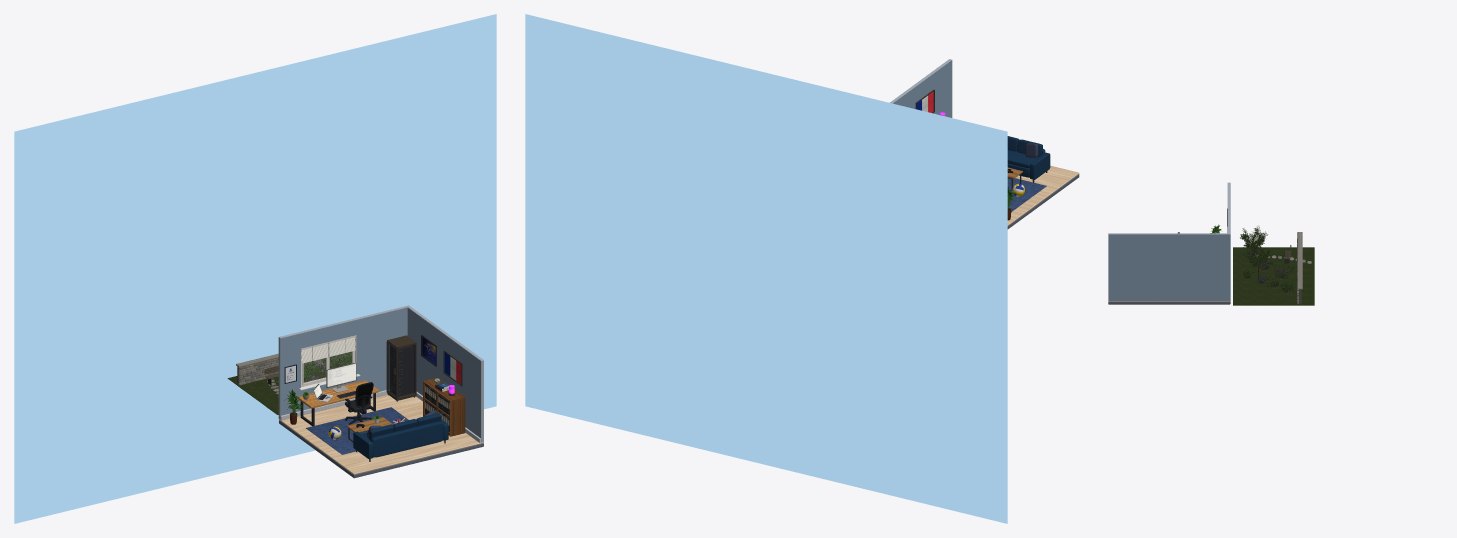
Rendered from portfolio-room.glb.
3 views of the same model, side by side, from view 1: azimuth 30°, elevation 25°; view 2: azimuth 150°, elevation 25°; view 3: azimuth 270°, elevation 25° (orthographic). The views are drawn at different scales.
Visible parts, largest first — view 1: EMIT_WindowView, Wall_Continuous, Floor, ASSET_Sofa__MAT_Sofa_Fabric, Rack_Glass, Rug, Room_Walls__MAT_Review_Wall_Cap, Bookshelf_Carcass, Rack_Assembly__MAT_Rack_Metal, Exterior_Lawn_Ground, Floor_Base, Rack_Devices (+2 smaller); view 2: EMIT_WindowView, Wall_Continuous, ASSET_Sofa__MAT_Sofa_Fabric, Floor; view 3: Wall_Continuous, Exterior_Lawn_Ground, Room_Walls__MAT_Review_Wall_Cap, Floor_Base, Exterior_Botanical_Crown_00.
Boxes of the visible parts, box(x1,y1,x2,y2) form: EMIT_WindowView: box(14, 14, 496, 523); Wall_Continuous: box(280, 307, 480, 438); Floor: box(279, 394, 483, 474); ASSET_Sofa__MAT_Sofa_Fabric: box(353, 413, 448, 458); Rack_Glass: box(387, 343, 415, 397); Rug: box(306, 407, 408, 454); Room_Walls__MAT_Review_Wall_Cap: box(278, 305, 483, 442); Bookshelf_Carcass: box(423, 377, 465, 436); Rack_Assembly__MAT_Rack_Metal: box(386, 335, 416, 401); Exterior_Lawn_Ground: box(227, 360, 351, 414); Floor_Base: box(279, 420, 483, 478); Rack_Devices: box(391, 345, 413, 395); EMIT_WindowView: box(525, 14, 1007, 523); Wall_Continuous: box(893, 60, 952, 117); ASSET_Sofa__MAT_Sofa_Fabric: box(1007, 136, 1050, 179); Floor: box(1007, 165, 1079, 225); Wall_Continuous: box(1108, 234, 1230, 300); Exterior_Lawn_Ground: box(1233, 247, 1314, 305); Room_Walls__MAT_Review_Wall_Cap: box(1108, 182, 1230, 300); Floor_Base: box(1108, 301, 1230, 304); Exterior_Botanical_Crown_00: box(1240, 226, 1267, 253).
Size of the model in its own units: 36 by 28 by 26.62.
222 materials, 39 textured.
